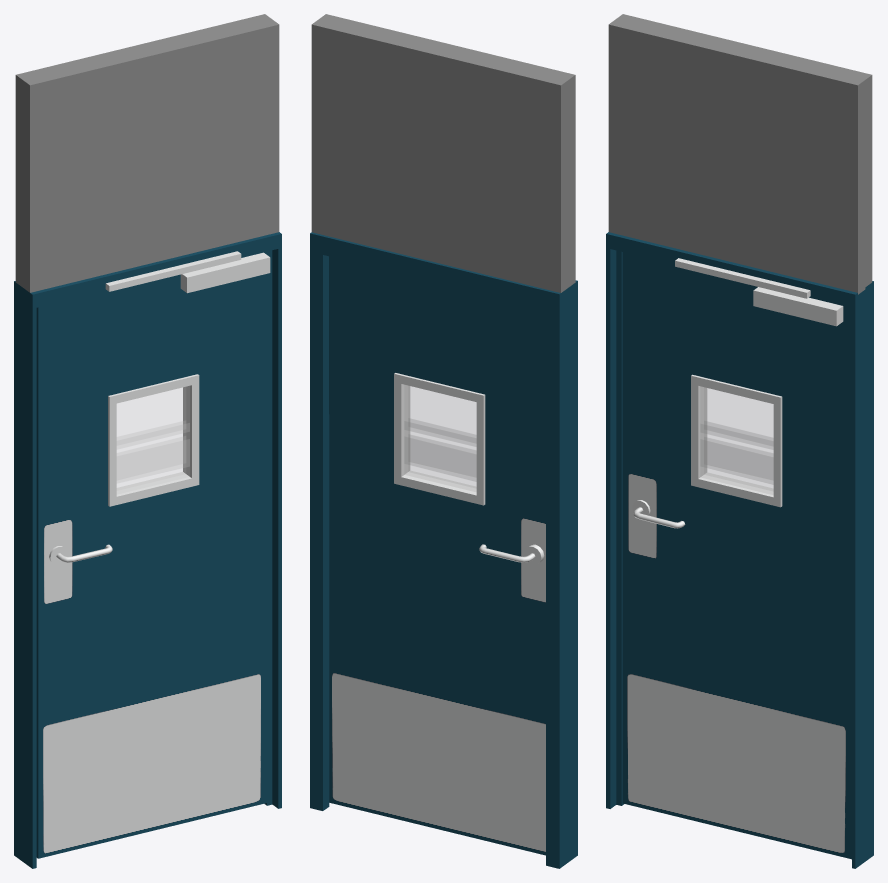
The model's file is porte01_t1.FBX.
3 renders of one model, left to right at view 1: azimuth 30°, elevation 25°; view 2: azimuth 150°, elevation 25°; view 3: azimuth 330°, elevation 25°, orthographic.
Parts seen in each view (by area): view 1: PpeD001, murhautPorte, porte005; view 2: PpeD001, murhautPorte, porte005; view 3: PpeD001, murhautPorte, porte005.
Boxes of the visible parts, box(x1,y1,x2,y2) form: PpeD001: box(36, 251, 270, 858); murhautPorte: box(15, 14, 279, 292); porte005: box(14, 232, 281, 868); PpeD001: box(329, 256, 545, 855); murhautPorte: box(311, 14, 575, 292); porte005: box(310, 232, 577, 868); PpeD001: box(622, 252, 851, 859); murhautPorte: box(608, 14, 872, 294); porte005: box(606, 232, 873, 868).
Size of the model in its own units: 100 by 300 by 19.25.
